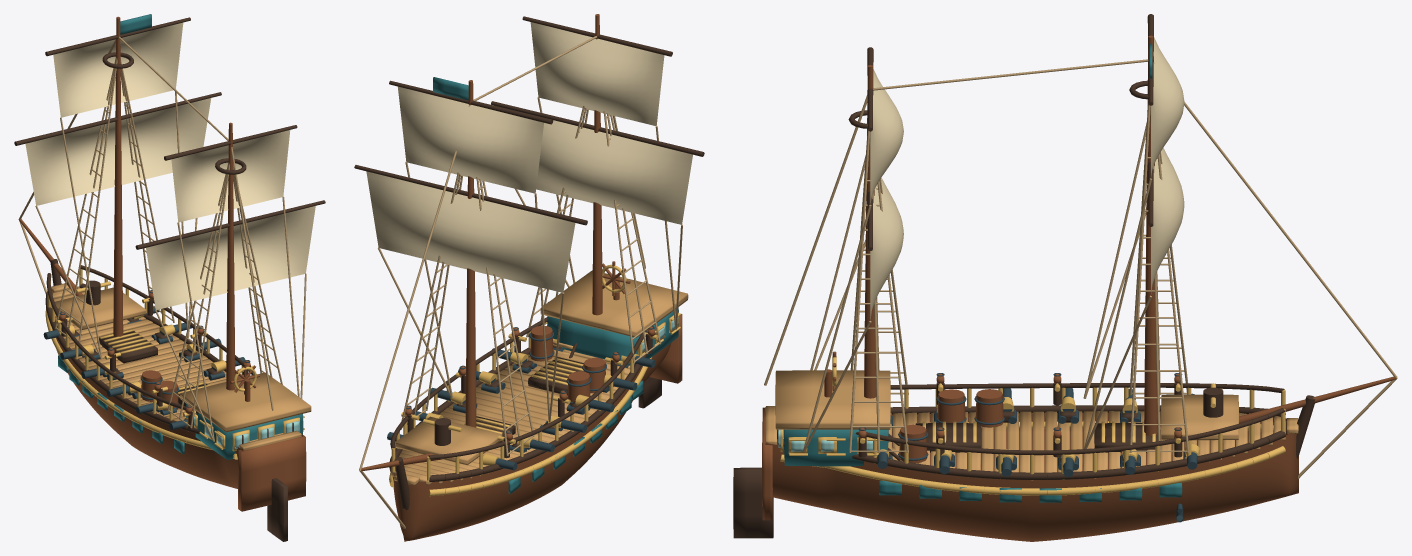
File: brig.glb
3 views of the same model, side by side, from view 1: azimuth 30°, elevation 25°; view 2: azimuth 150°, elevation 25°; view 3: azimuth 270°, elevation 25° (orthographic). The views are drawn at different scales.
Visible parts, largest first — view 1: _MeshInstance3D_18, _MeshInstance3D_24, _MeshInstance3D_19, _MeshInstance3D_15, _MeshInstance3D_23, _MeshInstance3D_17, _MeshInstance3D_14, _MeshInstance3D_16, _MeshInstance3D_21, _MeshInstance3D_20, _MeshInstance3D_25, _MeshInstance3D_22; view 2: _MeshInstance3D_18, _MeshInstance3D_15, _MeshInstance3D_19, _MeshInstance3D_23, _MeshInstance3D_17, _MeshInstance3D_14, _MeshInstance3D_24, _MeshInstance3D_16, _MeshInstance3D_21, _MeshInstance3D_20, _MeshInstance3D_25; view 3: _MeshInstance3D_18, _MeshInstance3D_19, _MeshInstance3D_23, _MeshInstance3D_24, _MeshInstance3D_21, _MeshInstance3D_20, _MeshInstance3D_25, _MeshInstance3D_15, _MeshInstance3D_17, _MeshInstance3D_14, _MeshInstance3D_16.
Part boxes in pixels (x1=…): _MeshInstance3D_18: x1=18, y1=16, x2=306, y2=511; _MeshInstance3D_24: x1=19, y1=36, x2=306, y2=441; _MeshInstance3D_19: x1=51, y1=283, x2=311, y2=450; _MeshInstance3D_15: x1=25, y1=98, x2=211, y2=205; _MeshInstance3D_23: x1=14, y1=17, x2=325, y2=541; _MeshInstance3D_17: x1=146, y1=206, x2=315, y2=309; _MeshInstance3D_14: x1=53, y1=22, x2=183, y2=117; _MeshInstance3D_16: x1=171, y1=130, x2=290, y2=222; _MeshInstance3D_21: x1=45, y1=268, x2=304, y2=459; _MeshInstance3D_20: x1=58, y1=14, x2=303, y2=460; _MeshInstance3D_25: x1=43, y1=290, x2=250, y2=429; _MeshInstance3D_22: x1=194, y1=416, x2=298, y2=448; _MeshInstance3D_18: x1=359, y1=14, x2=682, y2=541; _MeshInstance3D_15: x1=366, y1=171, x2=575, y2=292; _MeshInstance3D_19: x1=391, y1=270, x2=688, y2=485; _MeshInstance3D_23: x1=354, y1=16, x2=704, y2=510; _MeshInstance3D_17: x1=536, y1=120, x2=692, y2=224; _MeshInstance3D_14: x1=398, y1=86, x2=543, y2=193; _MeshInstance3D_24: x1=359, y1=36, x2=682, y2=528; _MeshInstance3D_16: x1=530, y1=22, x2=664, y2=126; _MeshInstance3D_21: x1=389, y1=264, x2=680, y2=496; _MeshInstance3D_20: x1=433, y1=77, x2=678, y2=493; _MeshInstance3D_25: x1=387, y1=302, x2=655, y2=470; _MeshInstance3D_18: x1=762, y1=35, x2=1396, y2=541; _MeshInstance3D_19: x1=765, y1=370, x2=1298, y2=472; _MeshInstance3D_23: x1=733, y1=14, x2=1315, y2=538; _MeshInstance3D_24: x1=764, y1=59, x2=1397, y2=478; _MeshInstance3D_21: x1=780, y1=356, x2=1285, y2=495; _MeshInstance3D_20: x1=783, y1=43, x2=1182, y2=502; _MeshInstance3D_25: x1=858, y1=373, x2=1197, y2=522; _MeshInstance3D_15: x1=1151, y1=148, x2=1184, y2=294; _MeshInstance3D_17: x1=870, y1=177, x2=903, y2=320; _MeshInstance3D_14: x1=1151, y1=37, x2=1184, y2=177; _MeshInstance3D_16: x1=870, y1=69, x2=903, y2=204.
Size of the model in its own units: 4.4 by 8.22 by 9.89.
